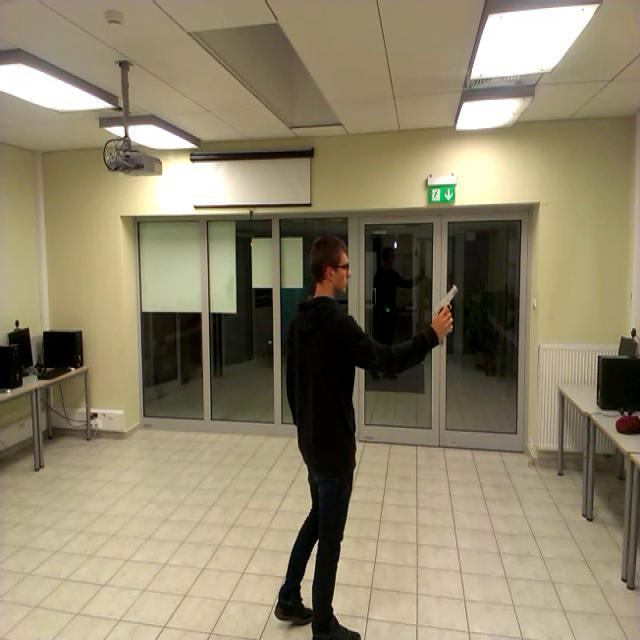Gun: (434, 283, 457, 330)
